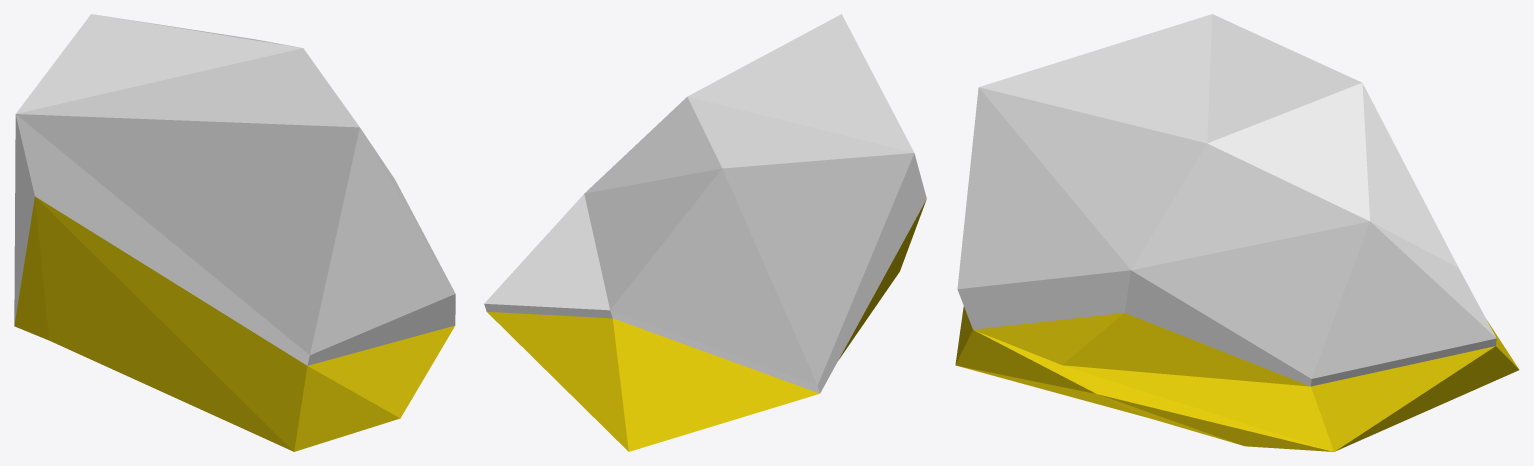
The model's file is Bush#10_Snow.fbx.
3 views of the same model, side by side, from view 1: azimuth 30°, elevation 25°; view 2: azimuth 150°, elevation 25°; view 3: azimuth 270°, elevation 25° (orthographic). The views are drawn at different scales.
Parts seen in each view (by area): view 1: Bush#10_Snow; view 2: Bush#10_Snow; view 3: Bush#10_Snow.
Boxes of the visible parts, box(x1,y1,x2,y2) form: Bush#10_Snow: box(14, 14, 455, 451); Bush#10_Snow: box(484, 14, 926, 451); Bush#10_Snow: box(955, 14, 1519, 451).
Bounding box in the file's own units: 337 × 245 × 422.
